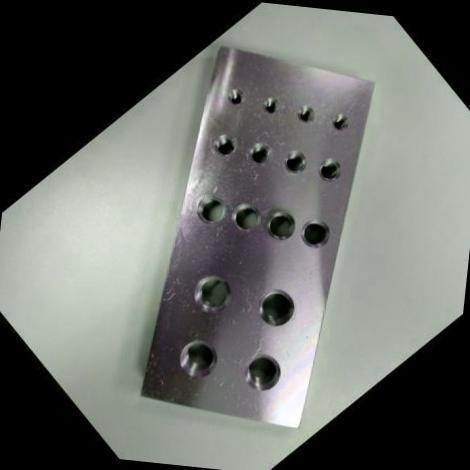hole: (166, 326, 228, 388), (181, 262, 242, 324), (231, 342, 290, 401), (246, 277, 304, 335), (256, 201, 304, 248), (290, 210, 338, 256), (186, 185, 232, 231), (222, 193, 268, 238), (240, 134, 278, 172), (275, 142, 312, 179), (206, 126, 242, 162), (311, 151, 347, 187), (220, 80, 250, 109), (290, 98, 320, 127), (257, 91, 283, 118), (326, 108, 352, 134)
